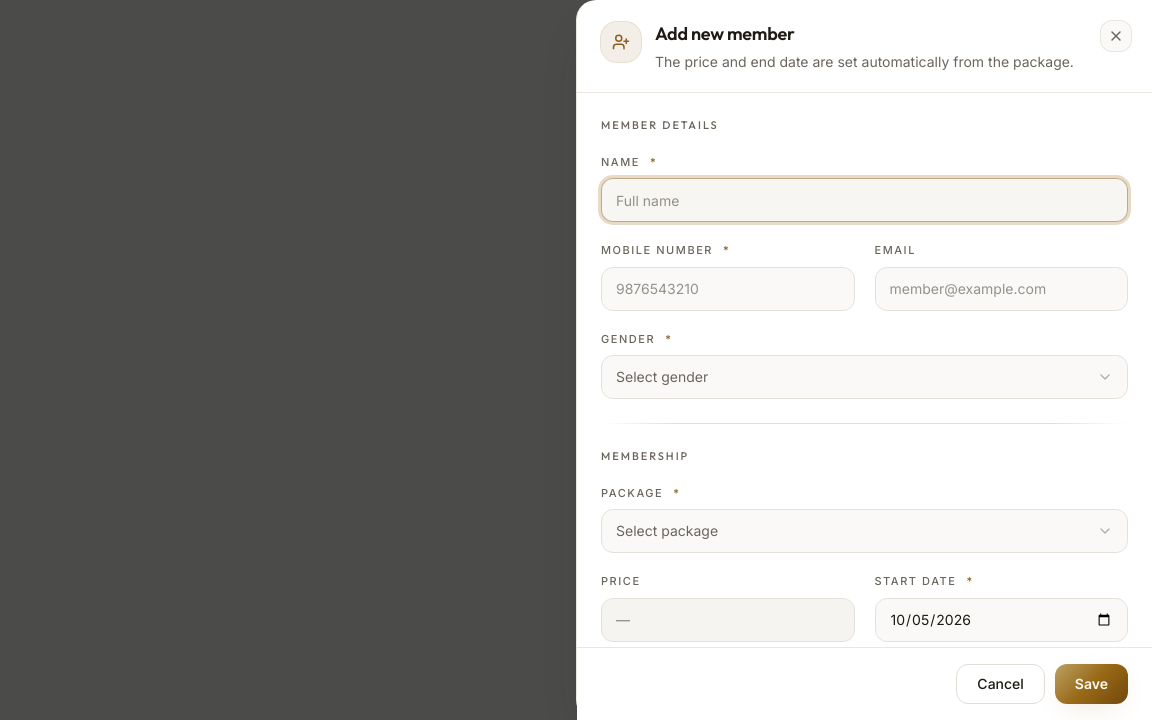
MemberFormDrawer — add › previews the end date the membership will get
Type "2026-01-10" into the date field labelled "Start date *" at (1001, 620), box [874, 598, 1128, 642]
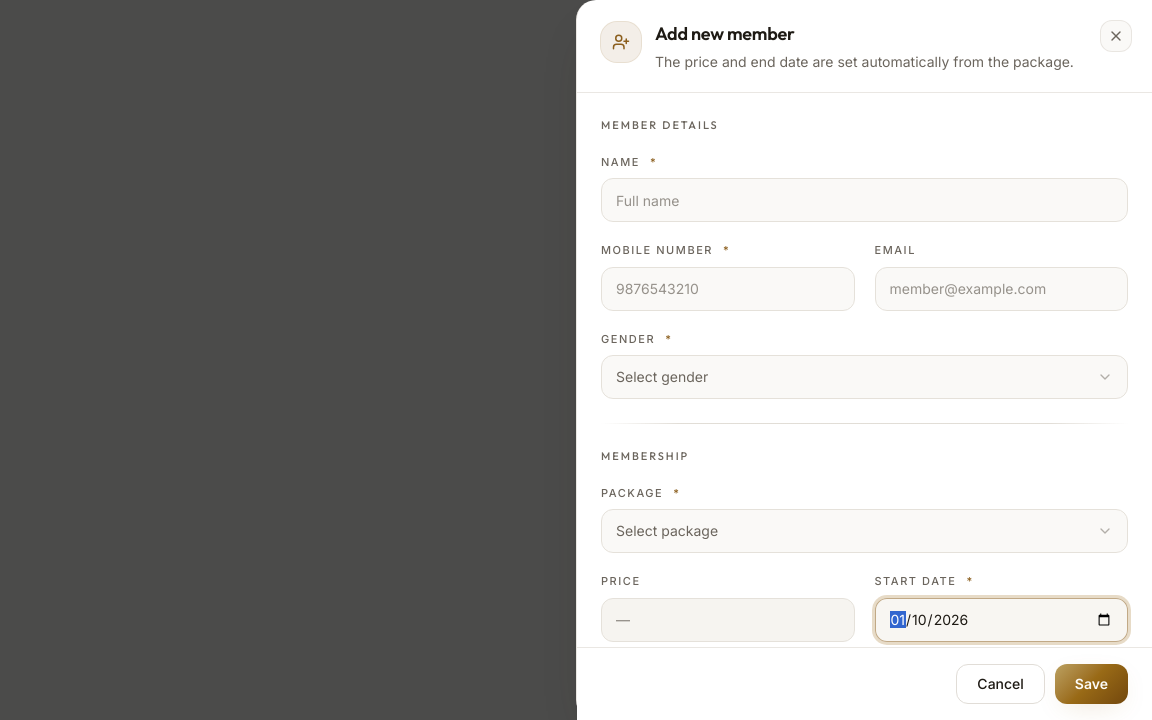
Click the dropdown labelled "Select package" at (667, 530), box [601, 509, 1128, 553]
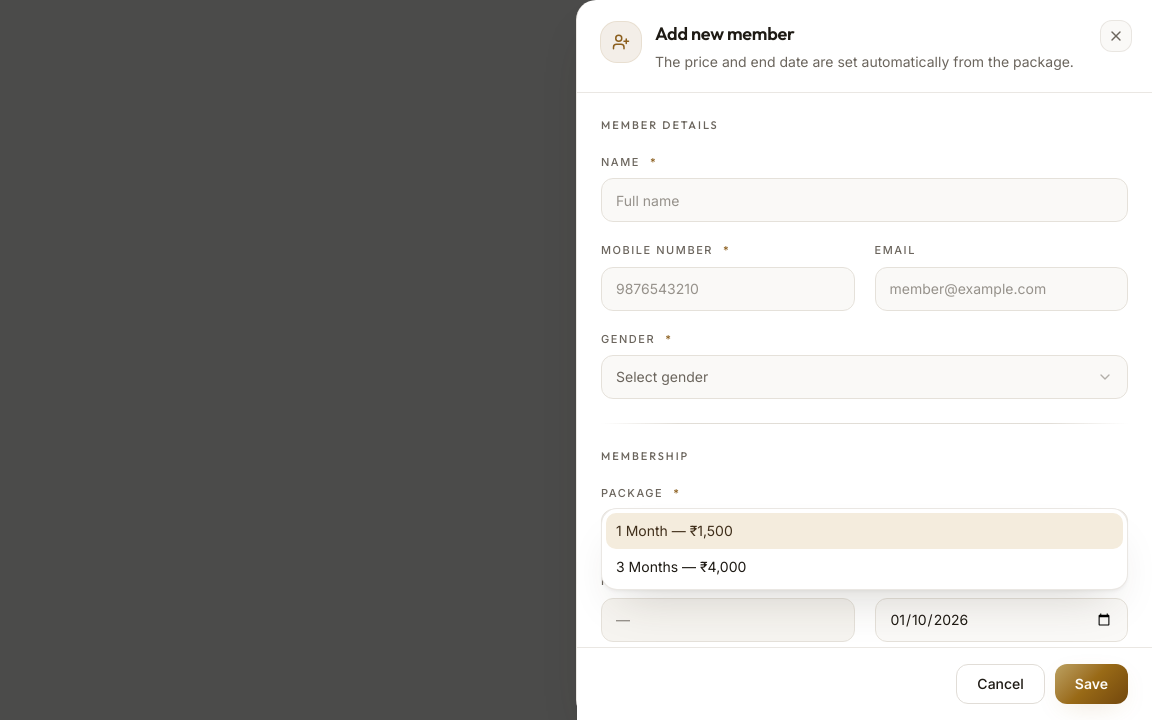
Click the option "3 Months — ₹4,000" at (681, 566), box [616, 558, 746, 575]
(page scrolled)
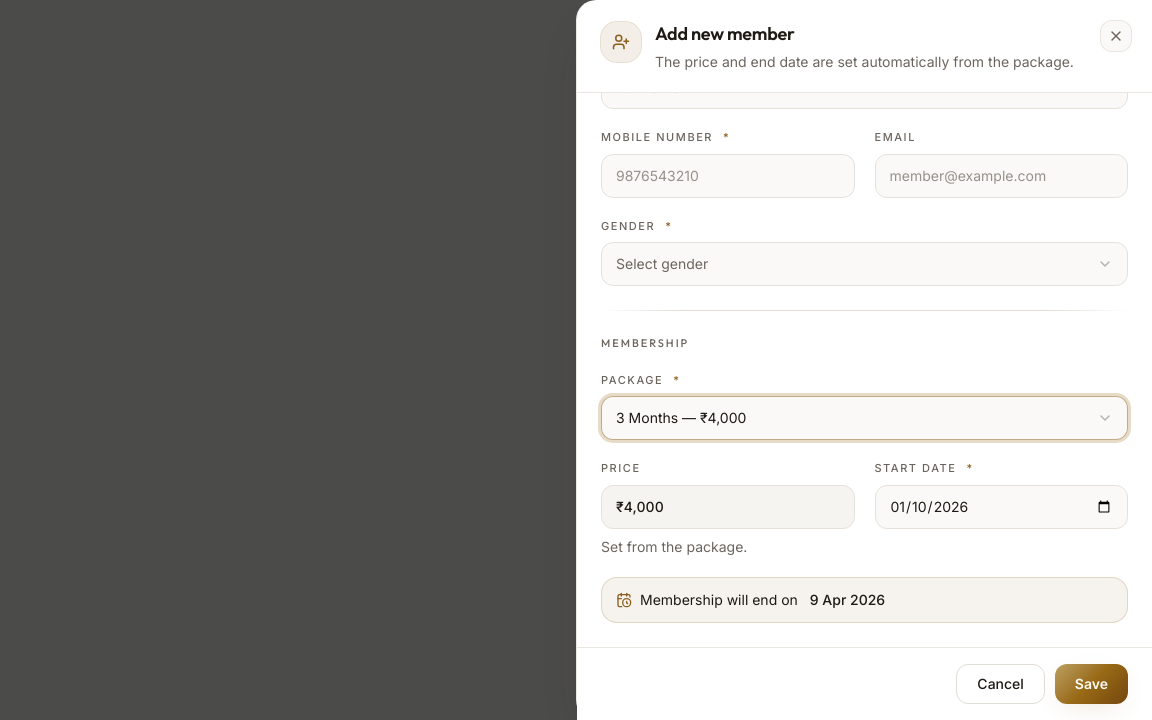
Now the text "9 Apr 2026" is shown, box [810, 590, 885, 610]
